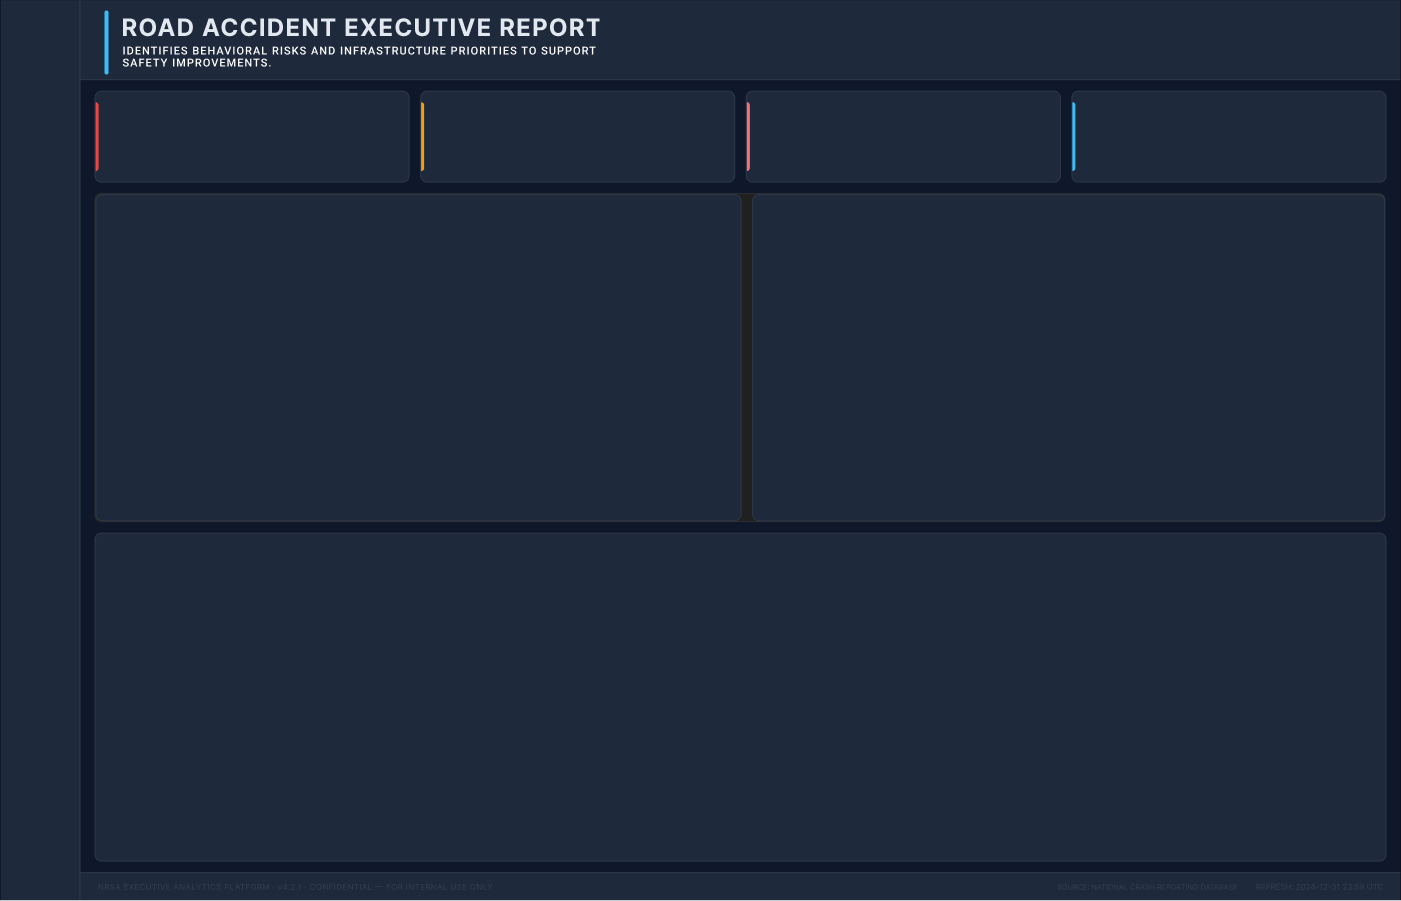

The dashboard page shown, as its layout file describes it:
{"tool":"powerbi","page":{"name":"Report 1","canvas":[1500,1500],"ordinal":0},"visuals":[{"type":"textbox","box":[9.6,0,279.9,41.2],"z":0},{"type":"textbox","box":[193.3,20,1113.3,120],"z":1000},{"type":"shape","box":[35,175,631.7,296.7],"z":2000},{"type":"cardVisual","fields":{"Data":["Sum(Query1.Injury Total)"]},"box":[55.1,254.9,198.3,126.7],"z":3000},{"type":"cardVisual","fields":{"Data":["Sum(Query1.Num units)"]},"box":[253.4,254.9,193.3,126.7],"z":4000},{"type":"lineStackedColumnComboChart","title":"Biểu đồ phân tích số vụ tai nạn và số phương tiện trong từng năm","fields":{"Category":["Query1.year"],"Y":["Sum(Query1.Injury Total)"],"Y2":["Sum(Query1.Num units)"]},"box":[721.7,175,728.3,296.7],"z":5000},{"type":"pieChart","title":"Biểu đồ thống kê số vụ tai nạn theo vụ va chạm tổng thể","fields":{"Y":["Sum(Query1.Number of Accident)"],"Category":["Query1.Crash Type"]},"box":[36.7,565,631.7,368.3],"z":6000},{"type":"clusteredBarChart","title":"Biểu đồ phân tích số vụ tai nạn và phương tiện theo các mức độ thiệt hại","fields":{"Category":["Query1.Damage Extension"],"Y":["Sum(Query1.Number of Accident)","Sum(Query1.Num units)"]},"box":[721.7,565,728.3,368.3],"z":7000},{"type":"pivotTable","title":"Bảng phân tích các vụ va chạm trong từng năm","fields":{"Rows":["Query1.year"],"Columns":["Query1.First Crash Type"],"Values":["Sum(Query1.Injury Total)","Sum(Query1.Number of Accident)"]},"box":[43.3,996.7,1413.3,468.3],"z":8000},{"type":"cardVisual","fields":{"Data":["Sum(Query1.Number of Accident)"]},"box":[446.8,254.9,193.3,126.7],"z":9000}]}

Visuals, with their boxes on the page's 1500x1500 design canvas (x1, y1, x2, y2). These are canvas units, not pixel positions in the 1401x901 screenshot, which may show the page scaled, cropped or inside an application window:
textbox: 10 0 290 41
textbox: 193 20 1307 140
shape: 35 175 667 472
cardVisual - Sum(Query1.Injury Total): 55 255 253 382
cardVisual - Sum(Query1.Num units): 253 255 447 382
"Biểu đồ phân tích số vụ tai nạn và số phương tiện trong từng năm" lineStackedColumnComboChart: 722 175 1450 472
"Biểu đồ thống kê số vụ tai nạn theo vụ va chạm tổng thể" pieChart: 37 565 668 933
"Biểu đồ phân tích số vụ tai nạn và phương tiện theo các mức độ thiệt hại" clusteredBarChart: 722 565 1450 933
"Bảng phân tích các vụ va chạm trong từng năm" pivotTable: 43 997 1457 1465
cardVisual - Sum(Query1.Number of Accident): 447 255 640 382
